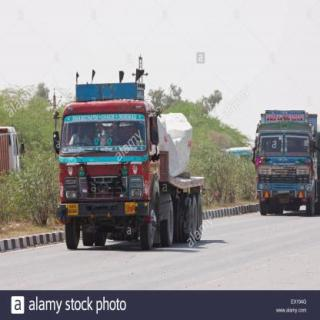Normal_vehicle: (49, 61, 210, 252)
